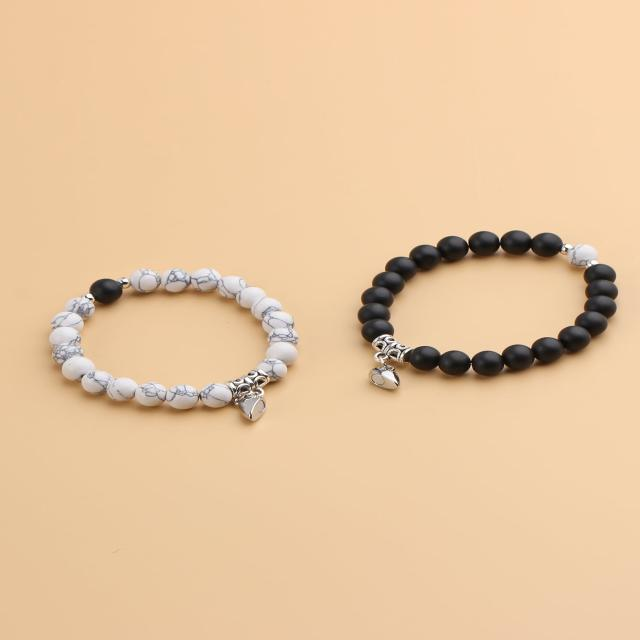bracelet: (309, 182, 640, 450), (39, 206, 328, 454)
